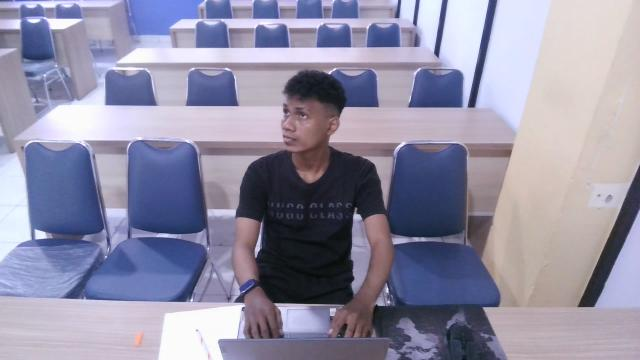Gaze_Aversion: (239, 56, 375, 242)
